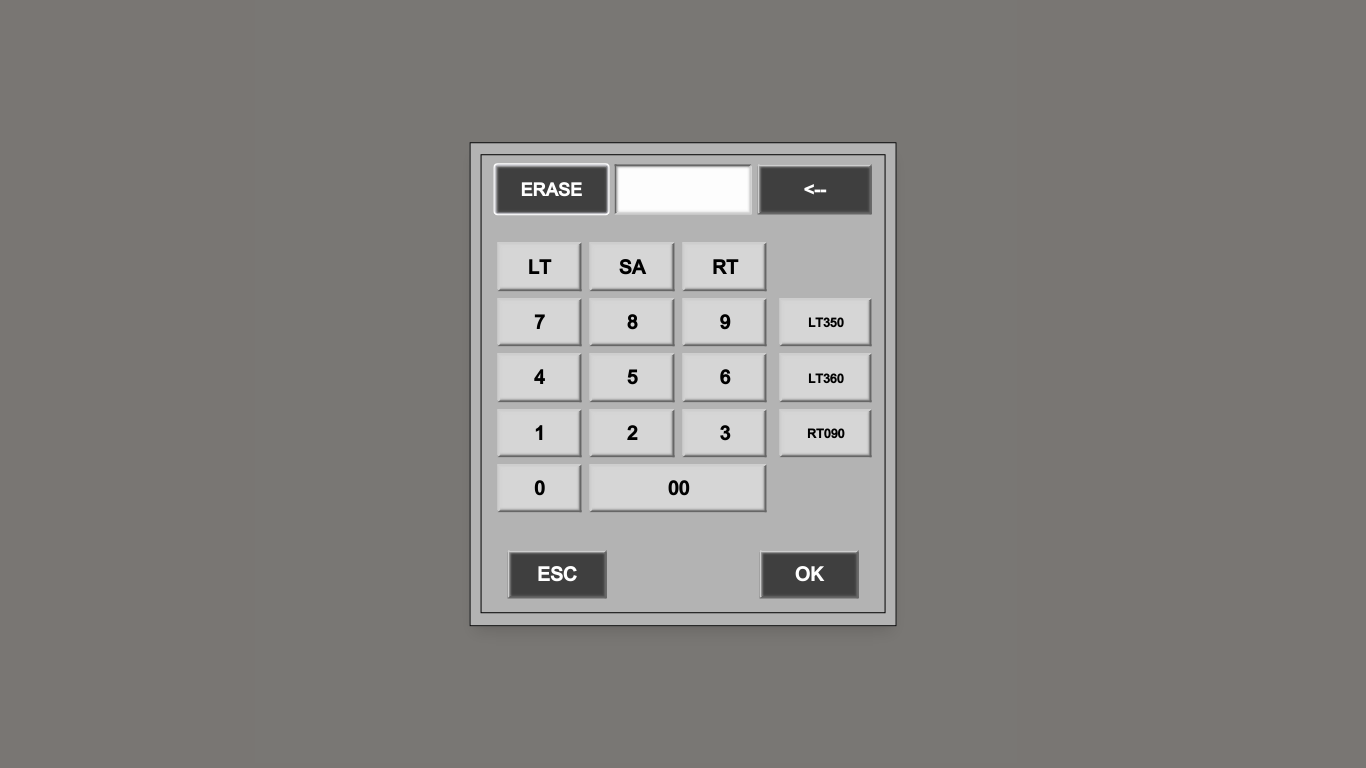
Scenario: HdgSelectDialog › removes the last digit with the backspace key
Step 1. Click the button "2" → (632, 433), box [590, 409, 674, 457]
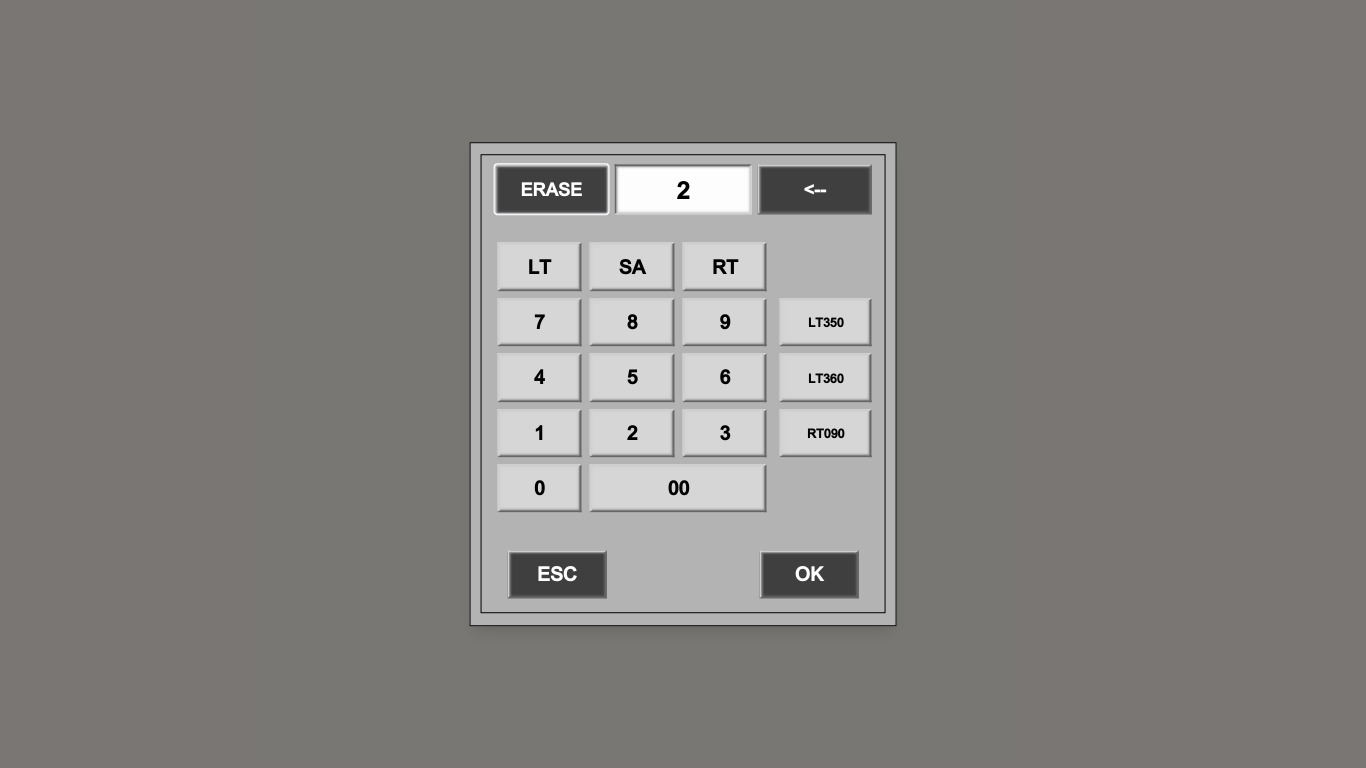
Step 2. Click the button "7" → (539, 322), box [497, 298, 582, 346]
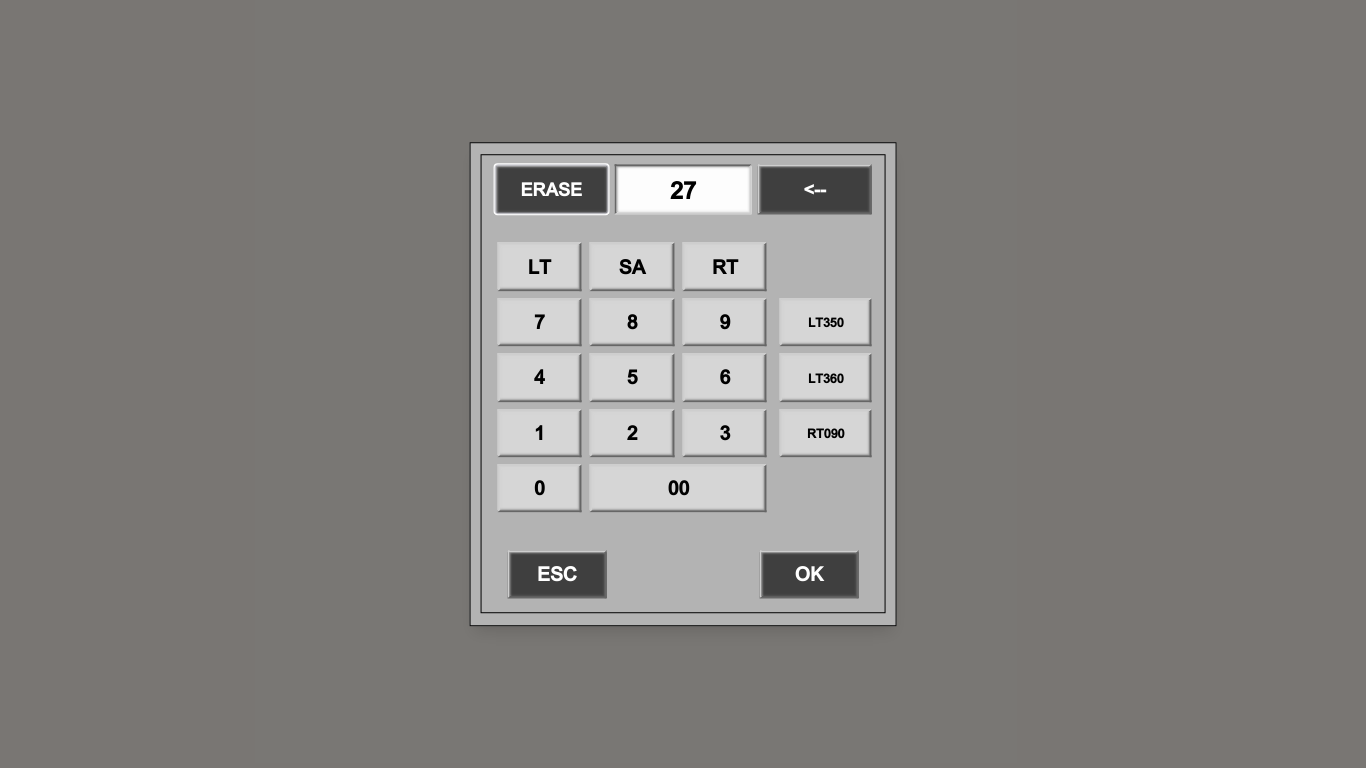
Step 3. Click the button named "Backspace" → (815, 189), box [758, 164, 872, 214]
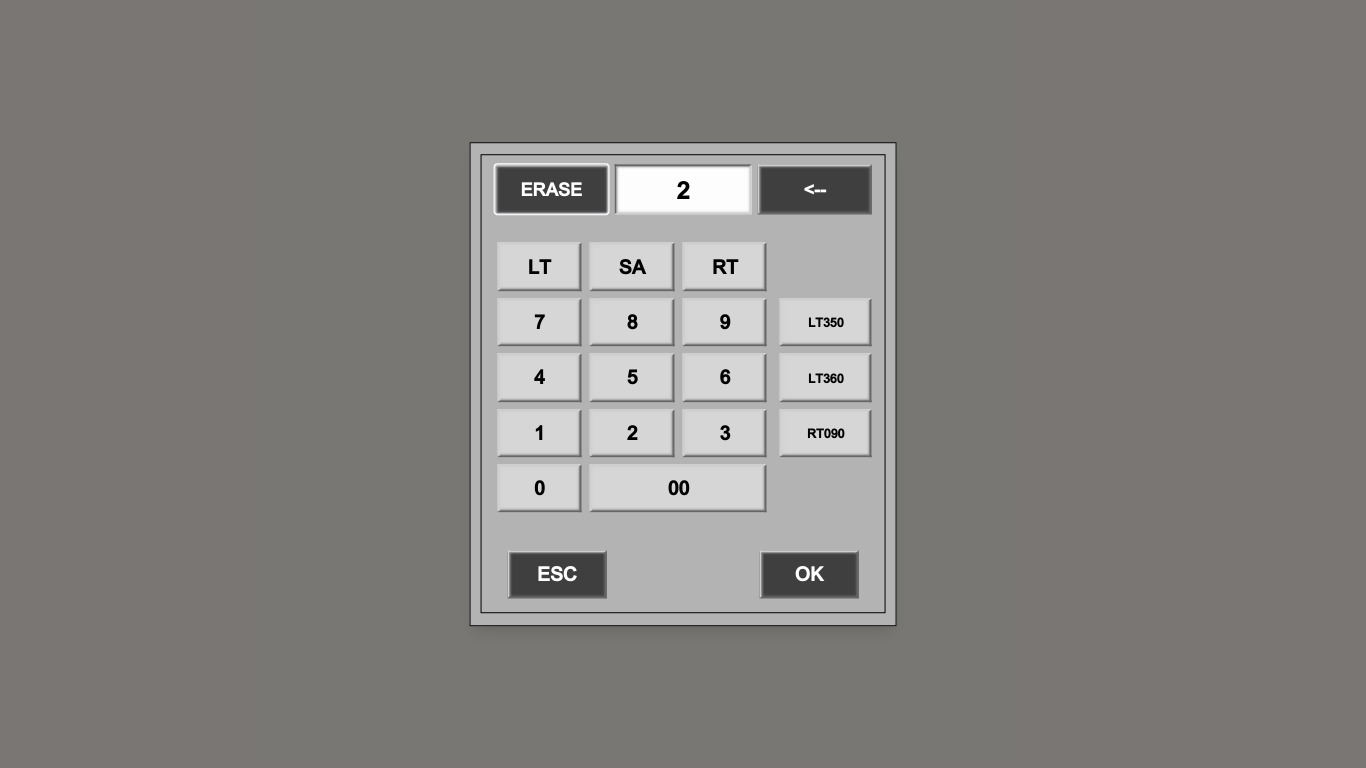
Result: the field named "Heading" holds "2" at [615, 164, 751, 214]
